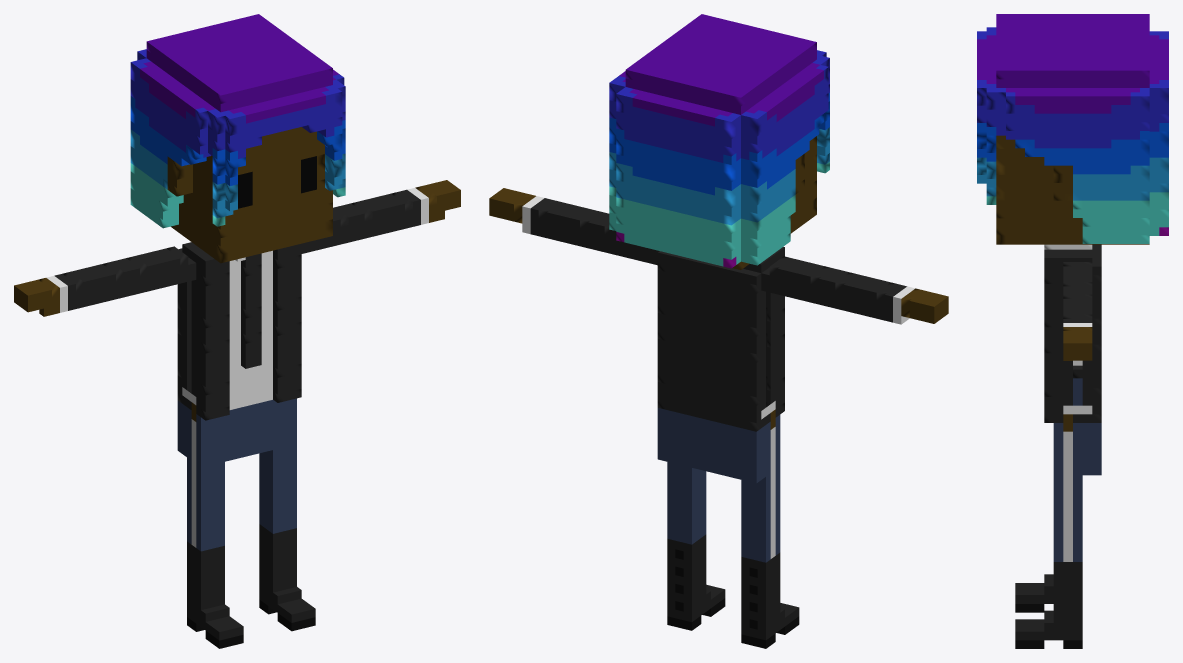
File: 0666-mergevert.fbx
The picture shows the model from 3 angles, left to right: view 1: azimuth 30°, elevation 25°; view 2: azimuth 150°, elevation 25°; view 3: azimuth 270°, elevation 25°; orthographic projection. The views are drawn at different scales.
Parts seen in each view (by area): view 1: Cube.001; view 2: Cube.001; view 3: Cube.001.
Boxes of the visible parts, x1=… form: Cube.001: x1=14, y1=14, x2=460, y2=648; Cube.001: x1=489, y1=14, x2=948, y2=648; Cube.001: x1=977, y1=14, x2=1168, y2=648.
Size of the model in its own units: 238 by 295 by 88.
